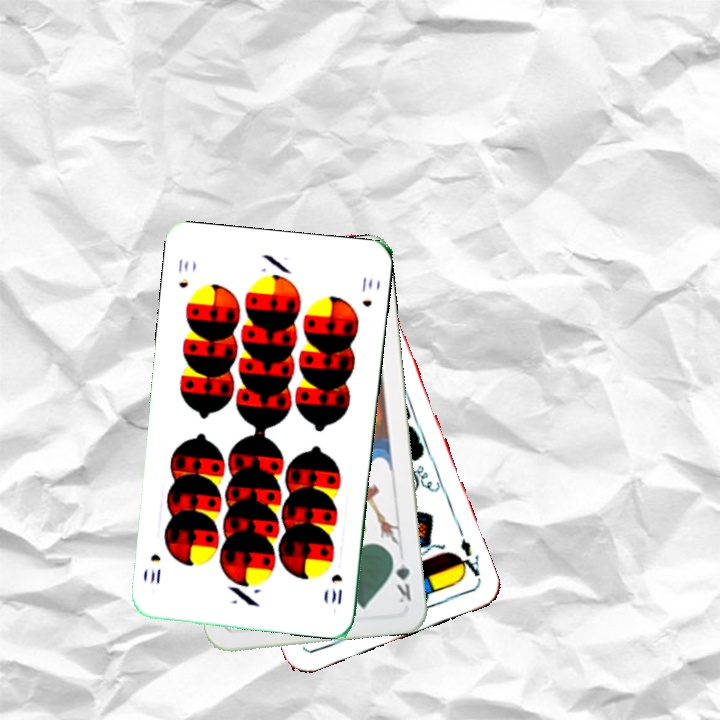EA: (451, 534, 483, 581)
GK: (388, 549, 415, 605)
S10: (327, 570, 345, 608), (174, 255, 191, 291)
